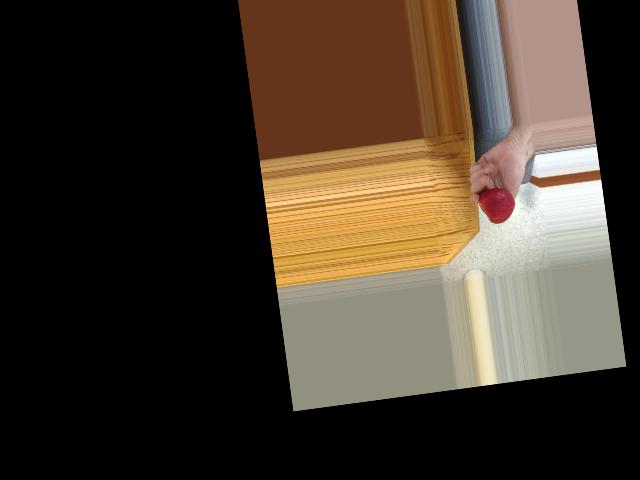apple: (476, 183, 518, 226)
